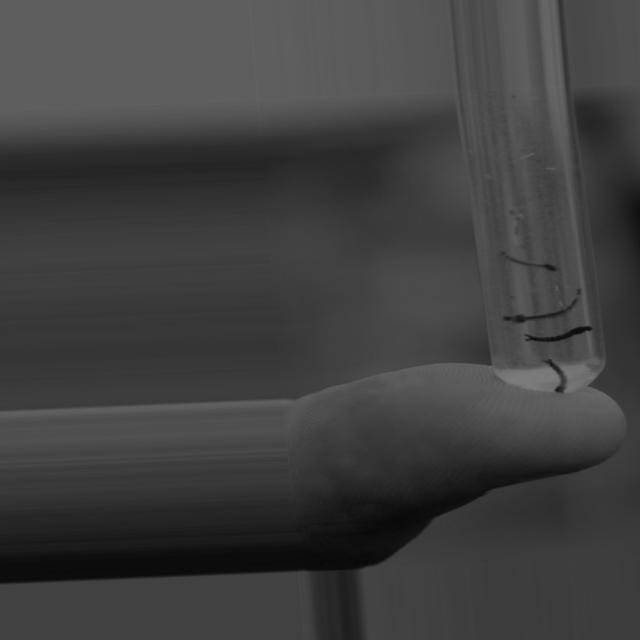larvas: (501, 290, 578, 322), (523, 317, 591, 344), (501, 252, 552, 270), (547, 355, 568, 391)
